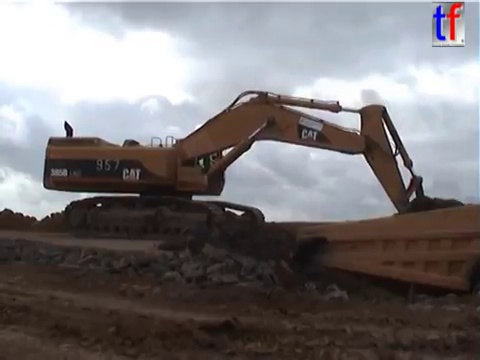excavator: (40, 87, 467, 259)
truck: (292, 200, 480, 301)
